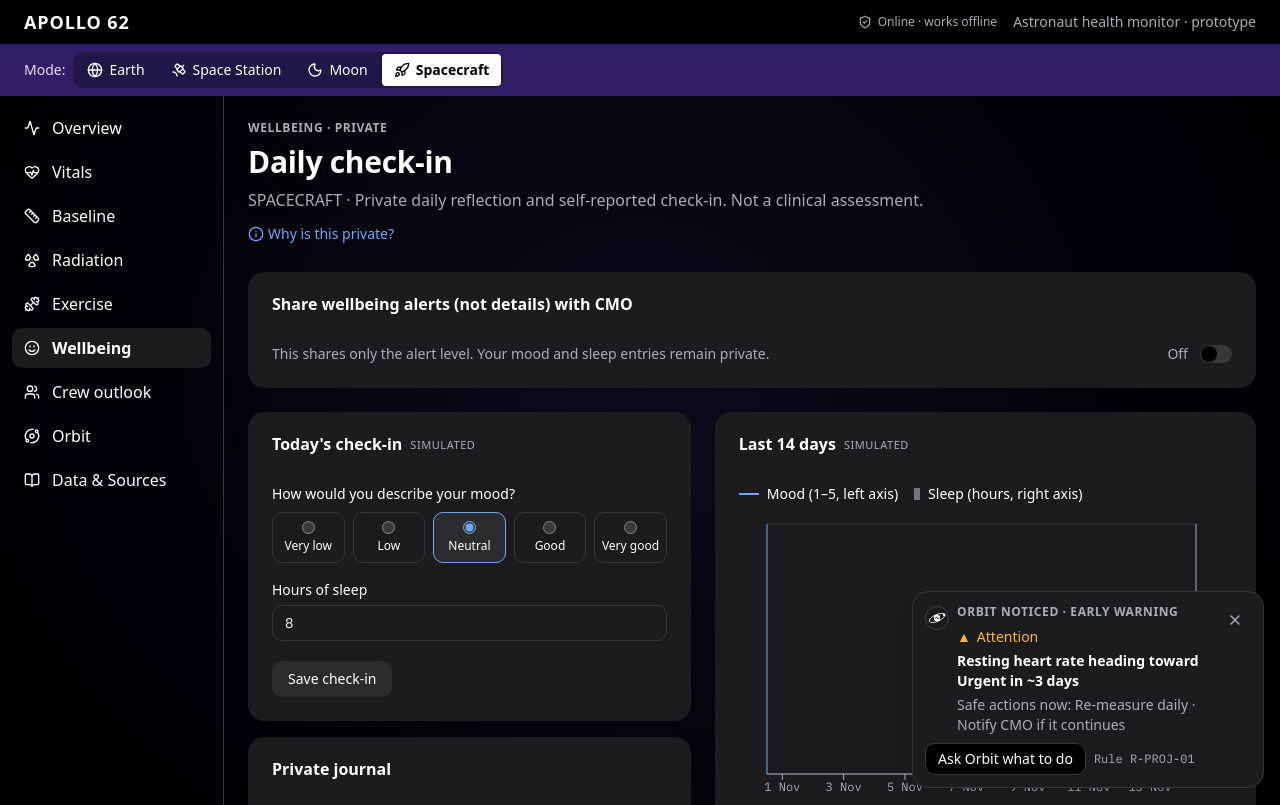
Test: ⓘ de privacidade (PRIV-05) › explica a privacidade com as fontes S02 e S04
What coordinates should you click on to do the following:
click the button "Why is this private?"
I would click on:
 (321, 234)
Its box is [248,224,394,244].
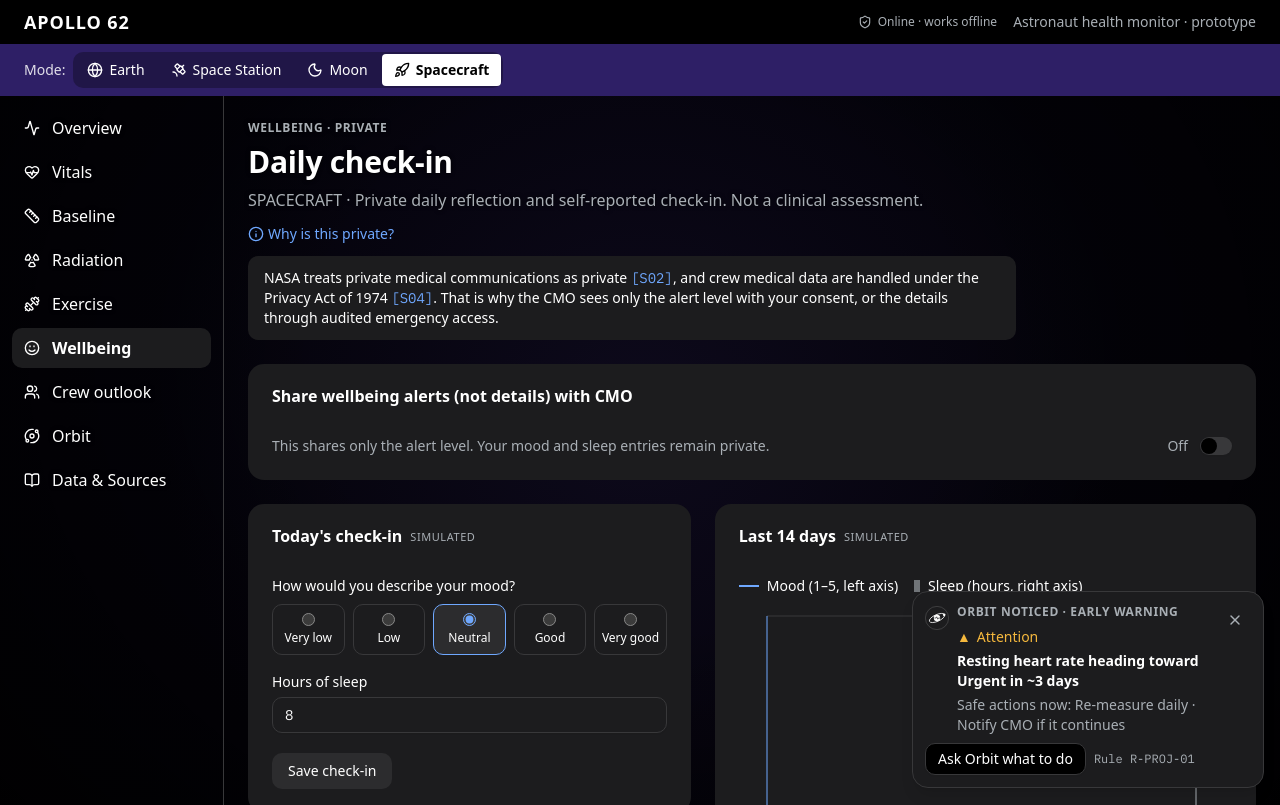
expect the text "Privacy Act of 1974" is shown: met, box [264,268,979,307]
expect the link to "#/sources?src=S02" is shown: met, box [631,269,673,287]
expect the link to "#/sources?src=S04" is shown: met, box [391,289,433,307]
